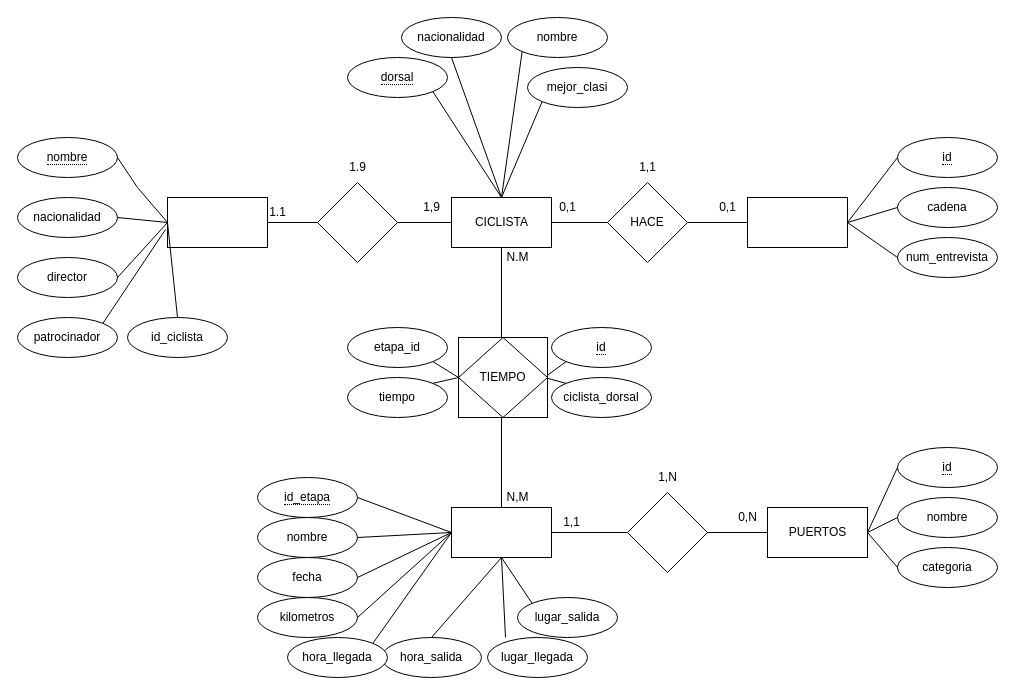
This 1015x695 diagram has some shape labels left out. The centre of each missing label's shape, as x and y in pixels:
"ENTREVISTA" goes at (x=797, y=222).
"EQUIPO" goes at (x=217, y=222).
"ETAPA" goes at (x=501, y=532).
"FORMA" goes at (x=357, y=222).
"TIENE" goes at (x=667, y=532).
